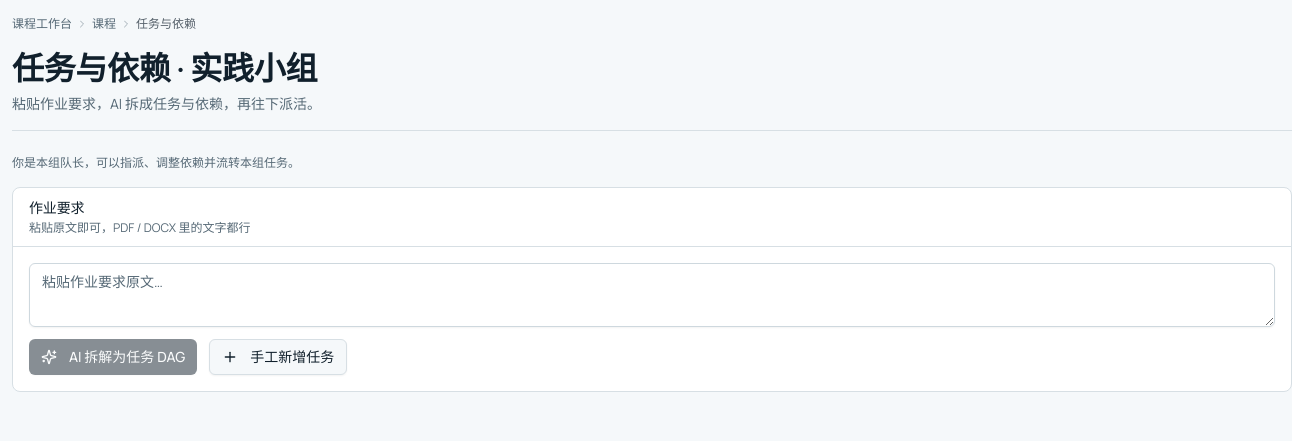
任务页 AI 拆解：网络异常必须可见、可恢复、不丢输入 › fetch 直接 reject 时出 role=alert 的可读错误，按钮不停在「拆解中」
Type "以「校园二手交易」为题，完成需求分析、原型设计与可用性测试报告。" into the text box with placeholder "粘贴作业要求原文…" at (652, 295), box [29,263,1275,327]
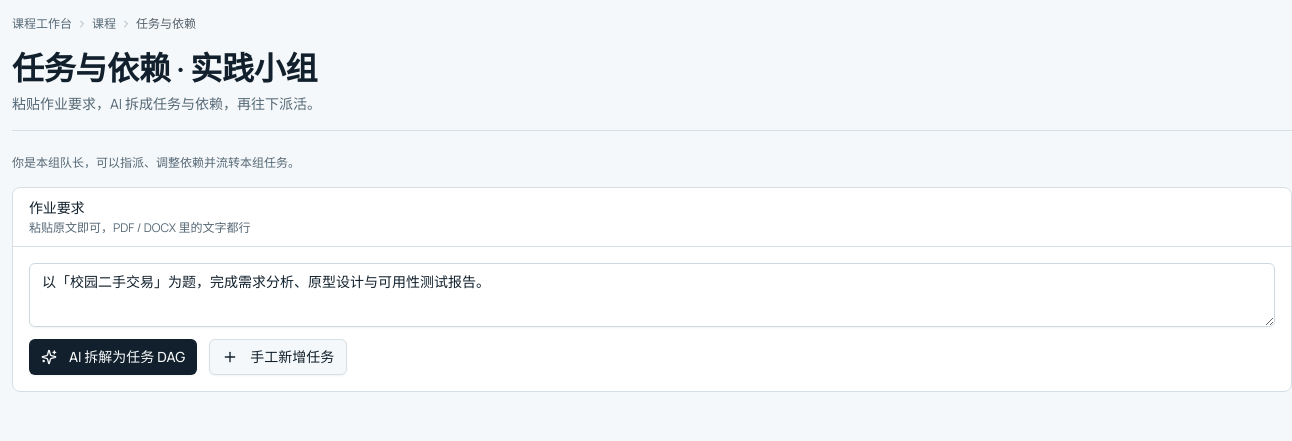
Expected: the button "AI 拆解为任务 DAG" is enabled
Click the button "AI 拆解为任务 DAG" at (113, 357), box [29,339,197,375]
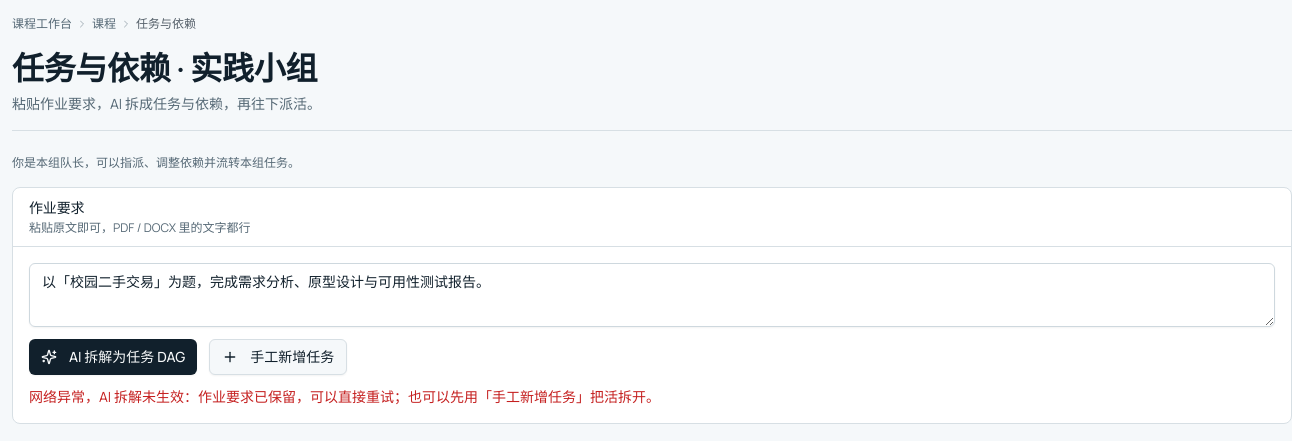
Expected: the message reads "网络异常，AI 拆解未生效：作业要求已保留，可以直接重试；也可以先用「手工新增任务」把活拆开。", [29,387,660,406]
Expected: the message shows "作业要求已保留", [29,387,660,406]
Expected: the message shows "手工新增任务", [29,387,660,406]
